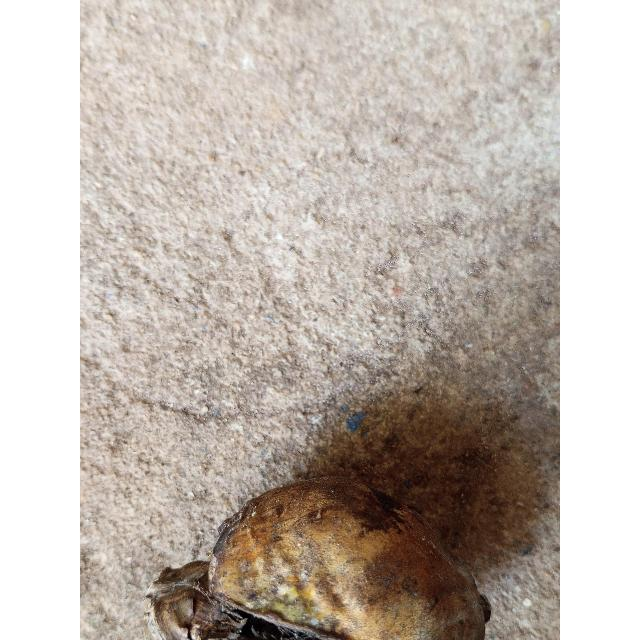damaged: (153, 451, 523, 640)
